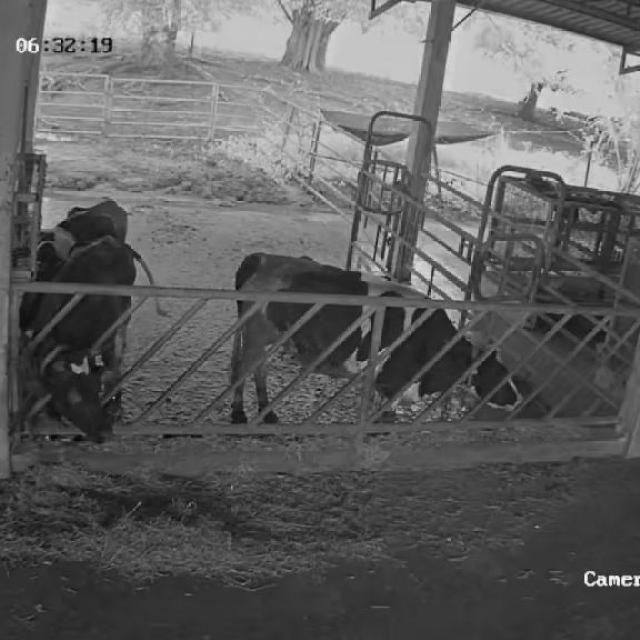feeding: (32, 237, 146, 441)
standing: (228, 252, 522, 429), (19, 196, 132, 334)
